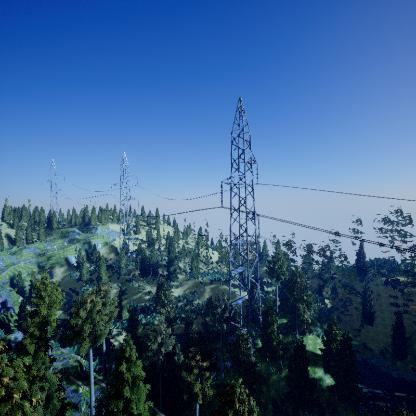tower: (214, 91, 267, 334), (105, 151, 143, 238)
